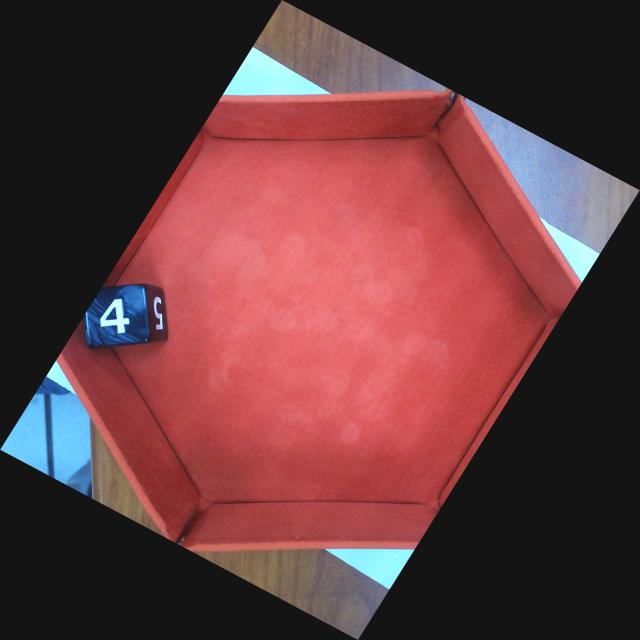dice: (83, 282, 151, 348)
